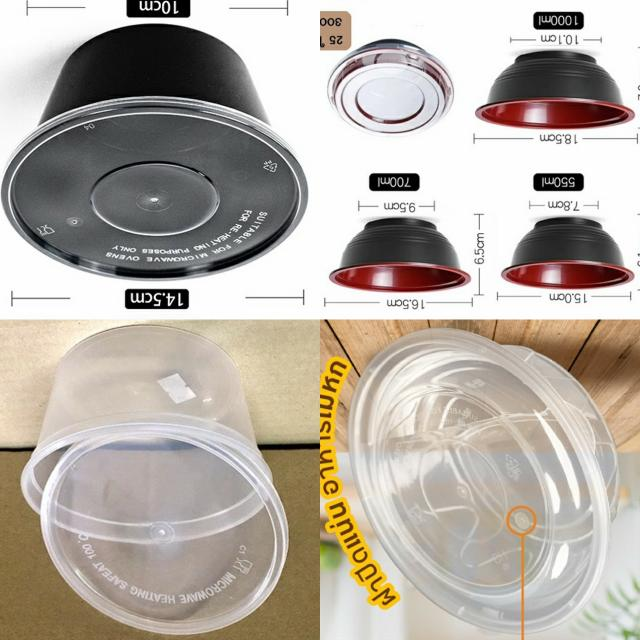plastik: (349, 328, 619, 634), (22, 326, 287, 634), (2, 25, 307, 281), (476, 52, 634, 130), (328, 40, 453, 136), (330, 219, 471, 292), (501, 218, 634, 289)
